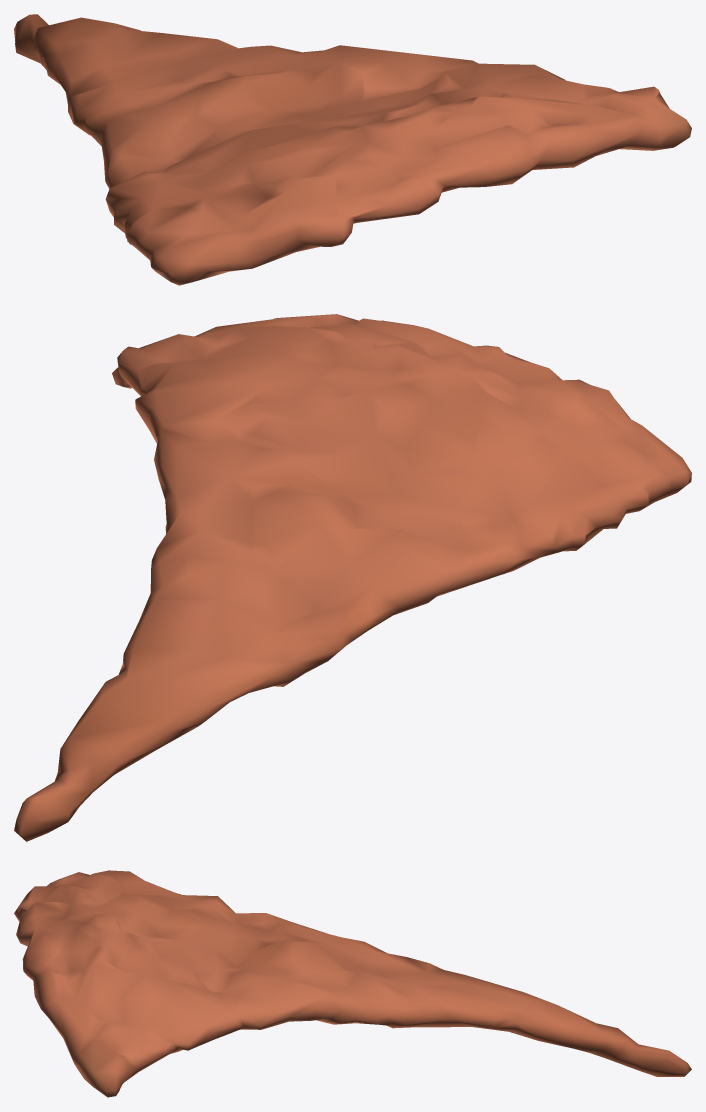
3 renders of one model, top to bottom at view 1: azimuth 30°, elevation 25°; view 2: azimuth 150°, elevation 25°; view 3: azimuth 270°, elevation 25°, orthographic. The views are drawn at different scales.
Visible parts, largest first — view 1: LOD 2_16298169511486423444_820756dedd5b3434c8e6bed8ae6a193b; view 2: LOD 2_16298169511486423444_820756dedd5b3434c8e6bed8ae6a193b; view 3: LOD 2_16298169511486423444_820756dedd5b3434c8e6bed8ae6a193b.
Part boxes in pixels (x1,y1,x2,y2): LOD 2_16298169511486423444_820756dedd5b3434c8e6bed8ae6a193b: [14, 14, 691, 285]; LOD 2_16298169511486423444_820756dedd5b3434c8e6bed8ae6a193b: [14, 314, 691, 841]; LOD 2_16298169511486423444_820756dedd5b3434c8e6bed8ae6a193b: [14, 870, 691, 1097].
Size of the model in its own units: 3.11 by 1.12 by 4.33.
